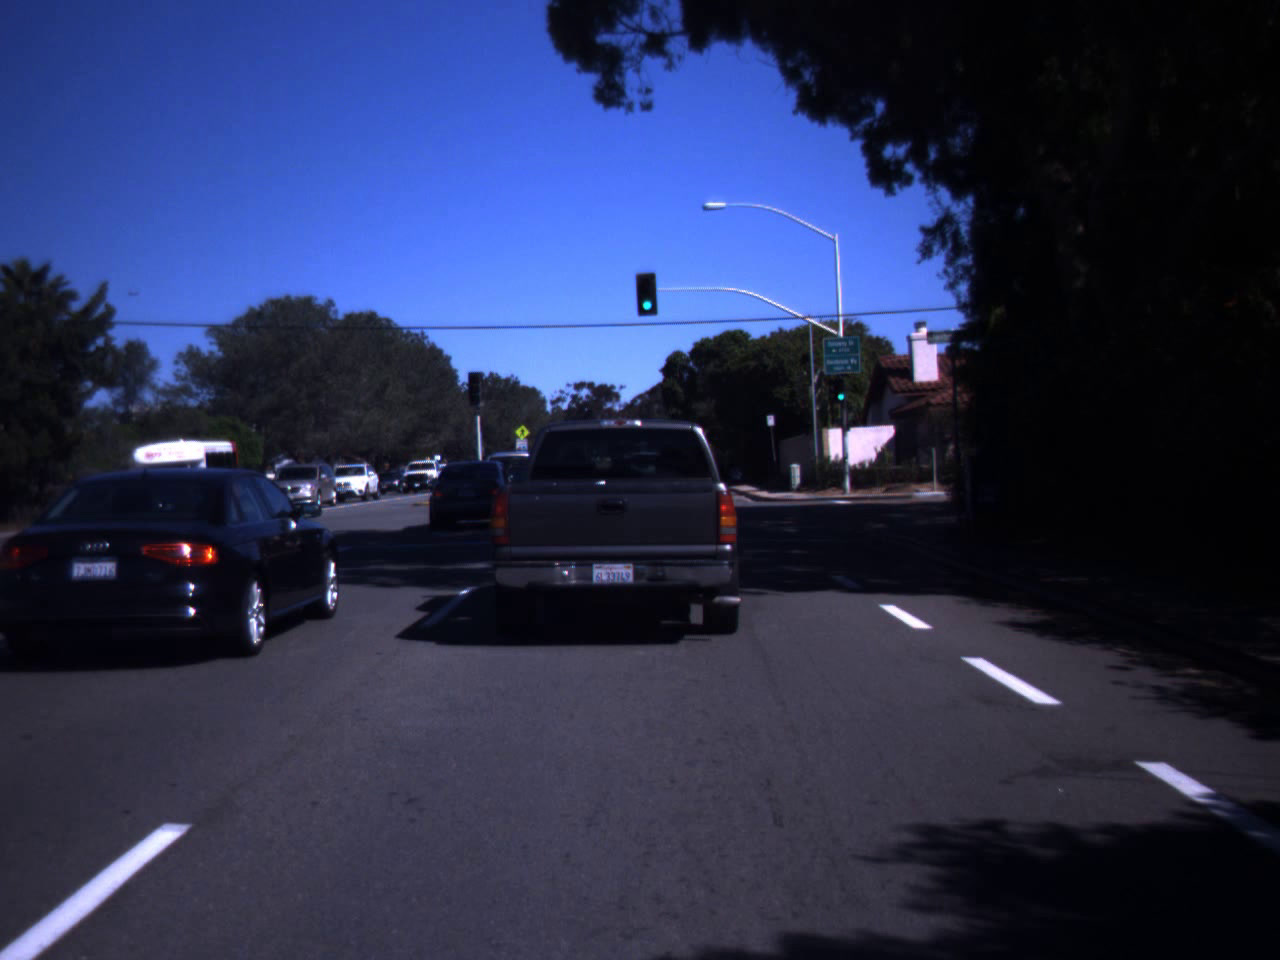go: (638, 277, 656, 312), (835, 381, 847, 401)
